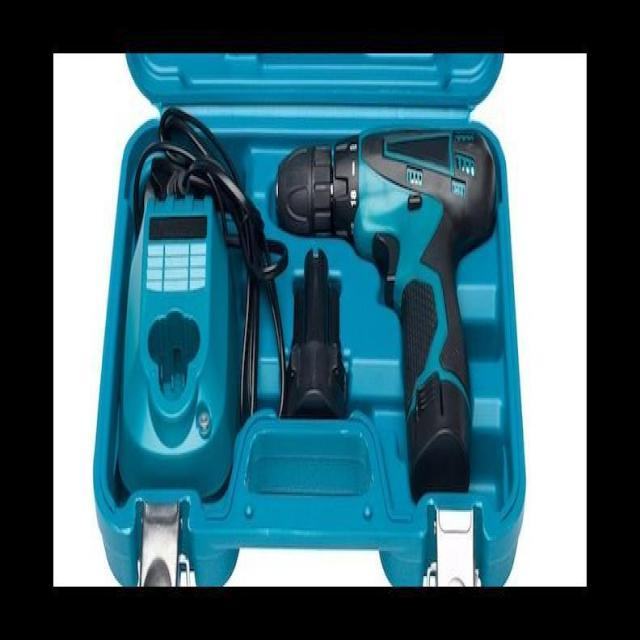drill: (276, 129, 496, 499)
